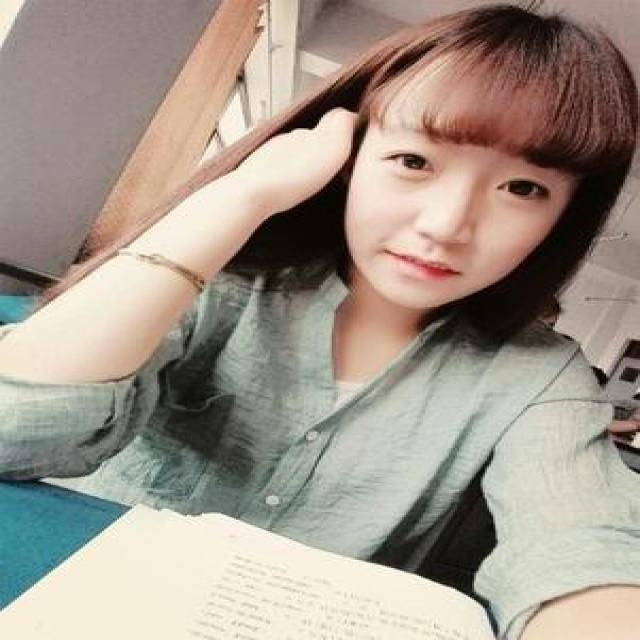long sleeve top: (67, 235, 636, 635)
